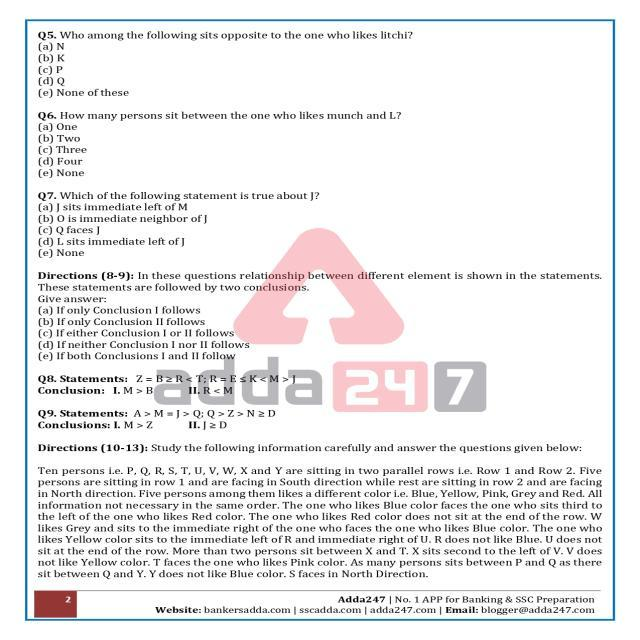Answer_Block: (26, 42, 612, 105), (34, 304, 610, 361), (27, 202, 612, 258), (27, 123, 614, 178)
Instruction: (30, 438, 613, 592)
Question_Answer_Block: (30, 264, 616, 360), (26, 24, 612, 104), (27, 188, 612, 258), (27, 109, 614, 178)
Question_Block: (26, 266, 610, 306), (26, 370, 610, 400), (32, 408, 612, 430), (26, 23, 612, 42), (27, 108, 614, 124), (27, 187, 612, 202)
Question_Paper_Area: (22, 20, 607, 587)
